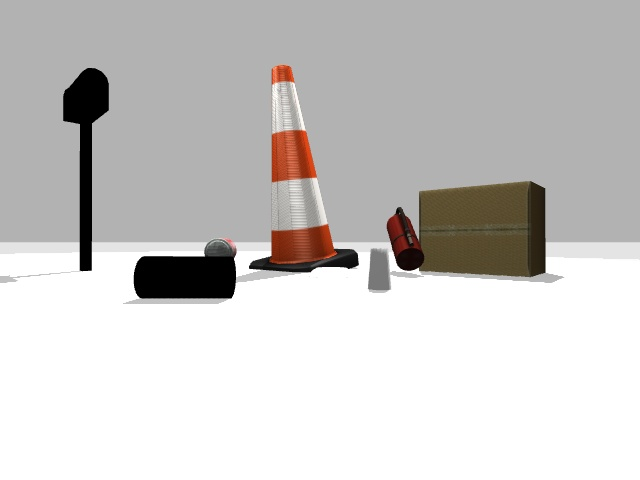boite_lettres: (63, 68, 108, 270)
bol: (307, 267, 357, 281)
bouteille_verre: (133, 255, 235, 298)
canette: (204, 238, 236, 256)
carton: (416, 181, 545, 276)
cone_chantier: (250, 65, 357, 271)
extincteur: (387, 207, 423, 270)
gobelet: (368, 248, 390, 290)
